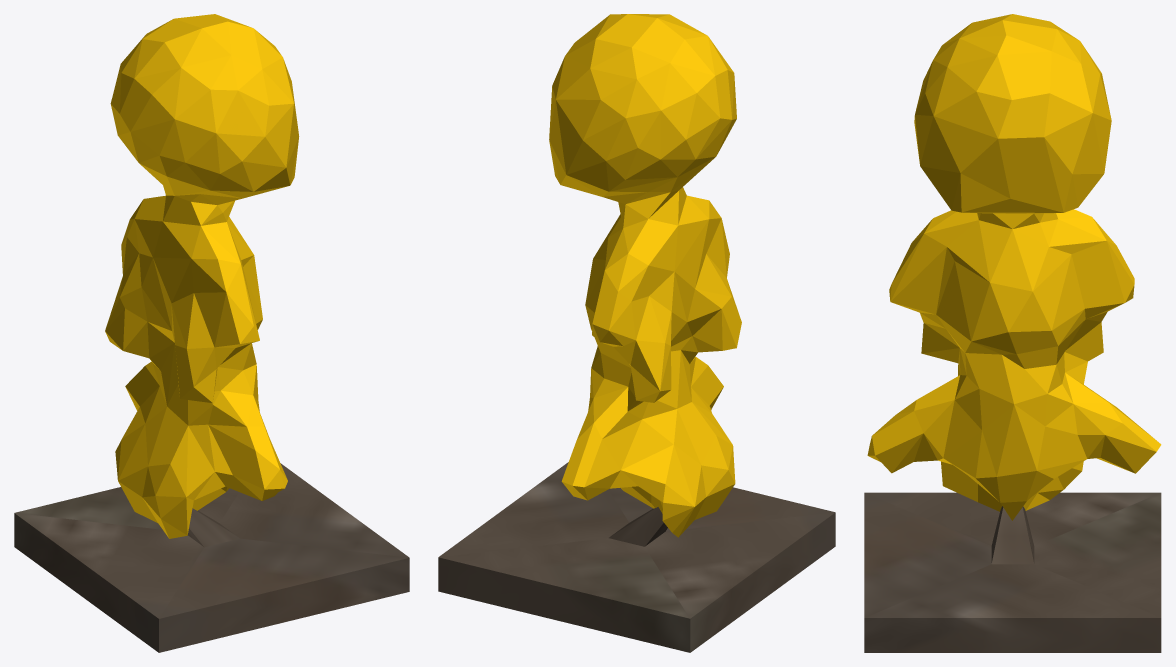
File: OddStatue.fbx
3 views of the same model, side by side, from view 1: azimuth 30°, elevation 25°; view 2: azimuth 150°, elevation 25°; view 3: azimuth 270°, elevation 25° (orthographic). The views are drawn at different scales.
Visible parts, largest first — view 1: Odd Statue; view 2: Odd Statue; view 3: Odd Statue.
Part boxes in pixels (<box>): Odd Statue: <box>14,14,409,652</box>; Odd Statue: <box>438,14,835,652</box>; Odd Statue: <box>864,14,1161,652</box>.
Size of the model in its own units: 17.27 by 17.26 by 36.07.
